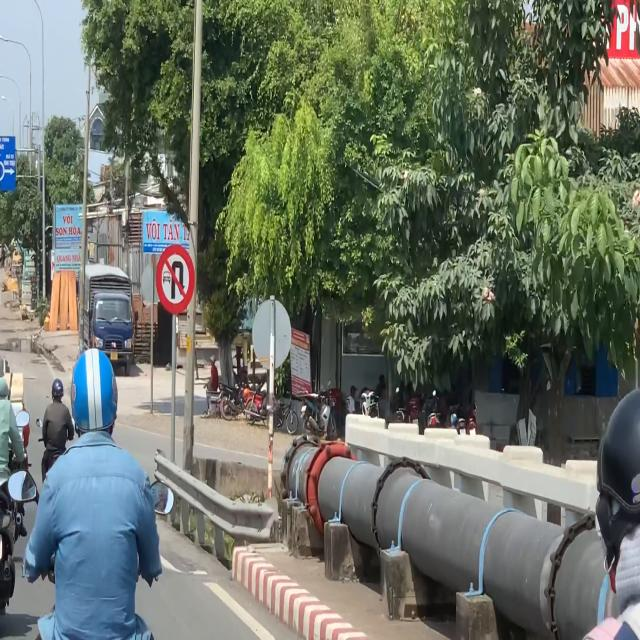Cam quay dau xe: (156, 236, 194, 324)
